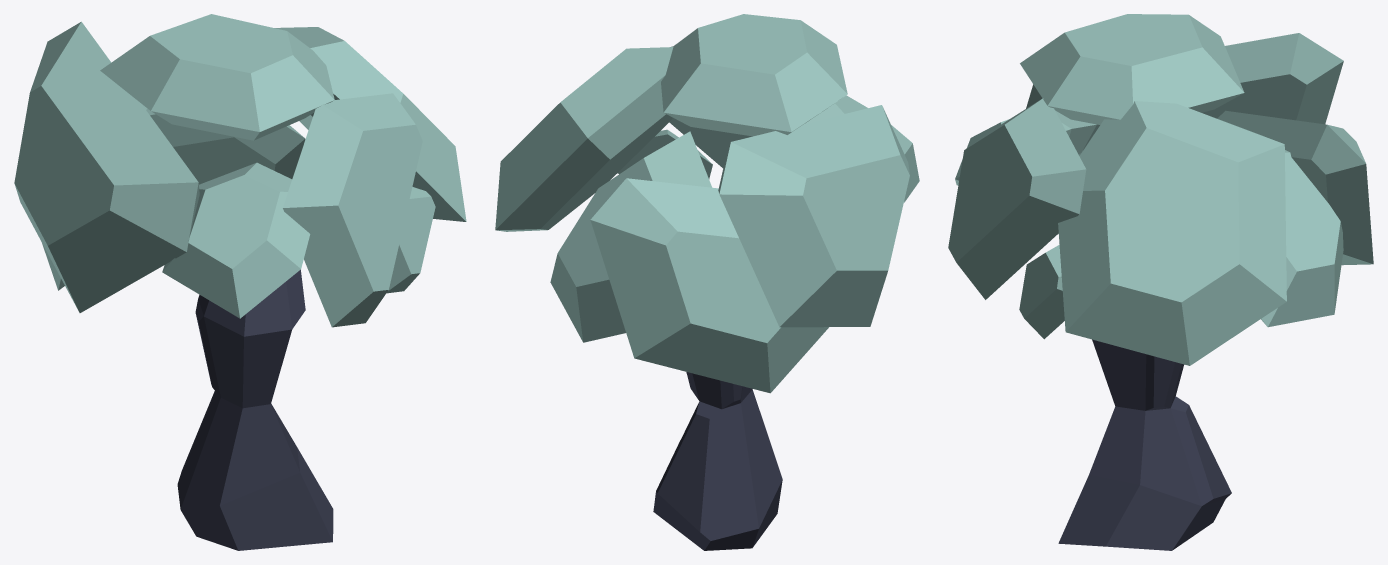
The model's file is buisson_p02.fbx.
3 renders of one model, left to right at view 1: azimuth 30°, elevation 25°; view 2: azimuth 150°, elevation 25°; view 3: azimuth 270°, elevation 25°, orthographic. The views are drawn at different scales.
Parts seen in each view (by area): view 1: Buisson_phase02; view 2: Buisson_phase02; view 3: Buisson_phase02.
Part boxes in pixels (x1,y1,x2,y2): Buisson_phase02: (14,14,466,550); Buisson_phase02: (495,14,919,550); Buisson_phase02: (948,14,1373,550).
Size of the model in its own units: 79.93 by 99.13 by 78.29.
